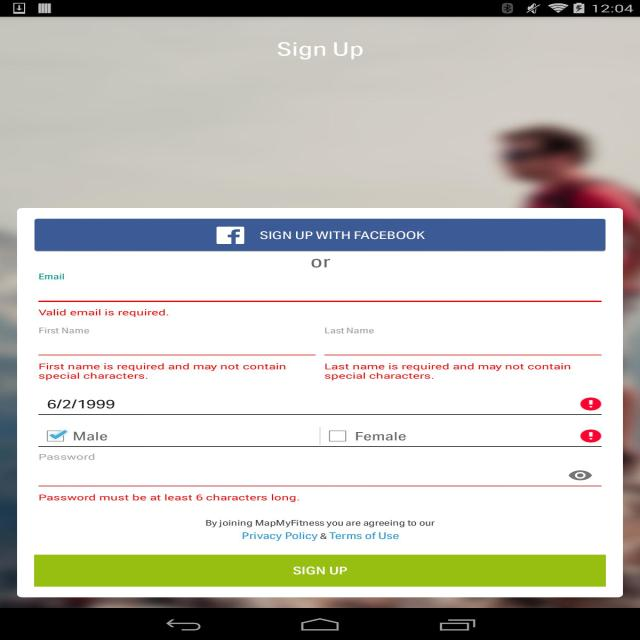button: (35, 219, 605, 250), (34, 554, 604, 585), (566, 468, 594, 482), (45, 429, 66, 444), (328, 429, 348, 443)
field: (36, 452, 604, 488), (36, 268, 602, 302), (39, 389, 604, 414), (36, 423, 604, 447), (35, 321, 317, 356), (320, 321, 600, 355)
heading: (278, 38, 366, 64)
image: (4, 16, 640, 608)
label: (352, 428, 408, 442), (70, 427, 110, 443), (34, 452, 98, 461), (38, 325, 92, 335), (322, 325, 375, 335), (38, 272, 68, 280)
link: (238, 528, 318, 542), (326, 528, 399, 542)
text: (204, 516, 436, 544), (35, 362, 288, 382), (322, 362, 574, 382), (36, 492, 300, 504), (36, 305, 172, 319), (311, 256, 334, 271)
